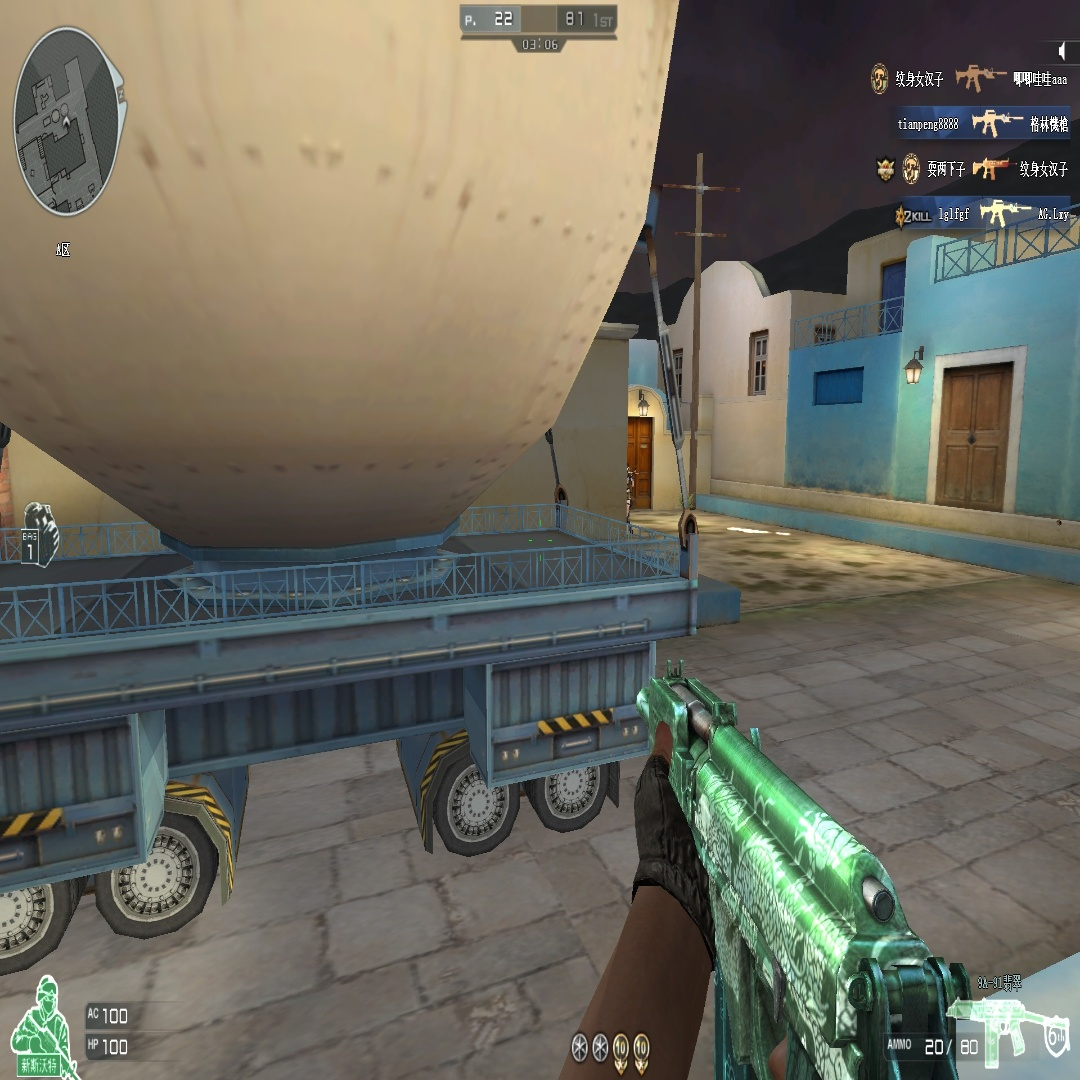p: (627, 462, 634, 533)
